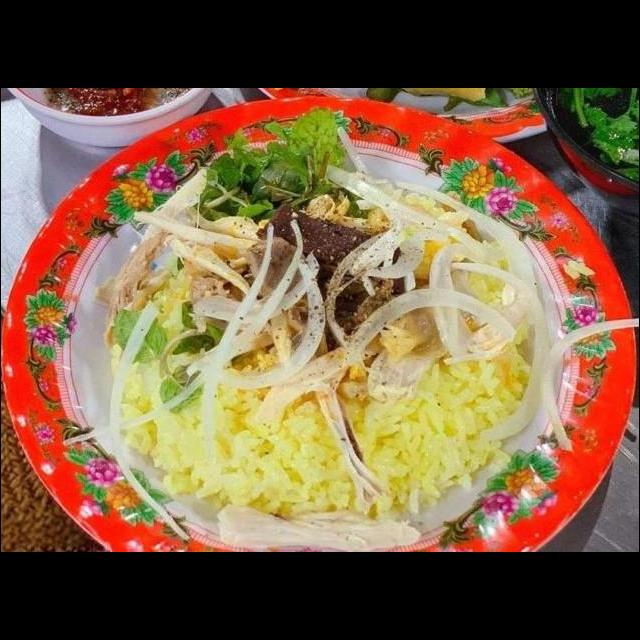com: (115, 343, 360, 522), (365, 314, 541, 521), (366, 190, 475, 286)
com ga: (6, 138, 594, 552)
rau ram: (192, 123, 336, 232)
thit ga: (130, 200, 266, 304), (246, 232, 334, 372), (305, 372, 390, 514), (90, 217, 176, 350)
